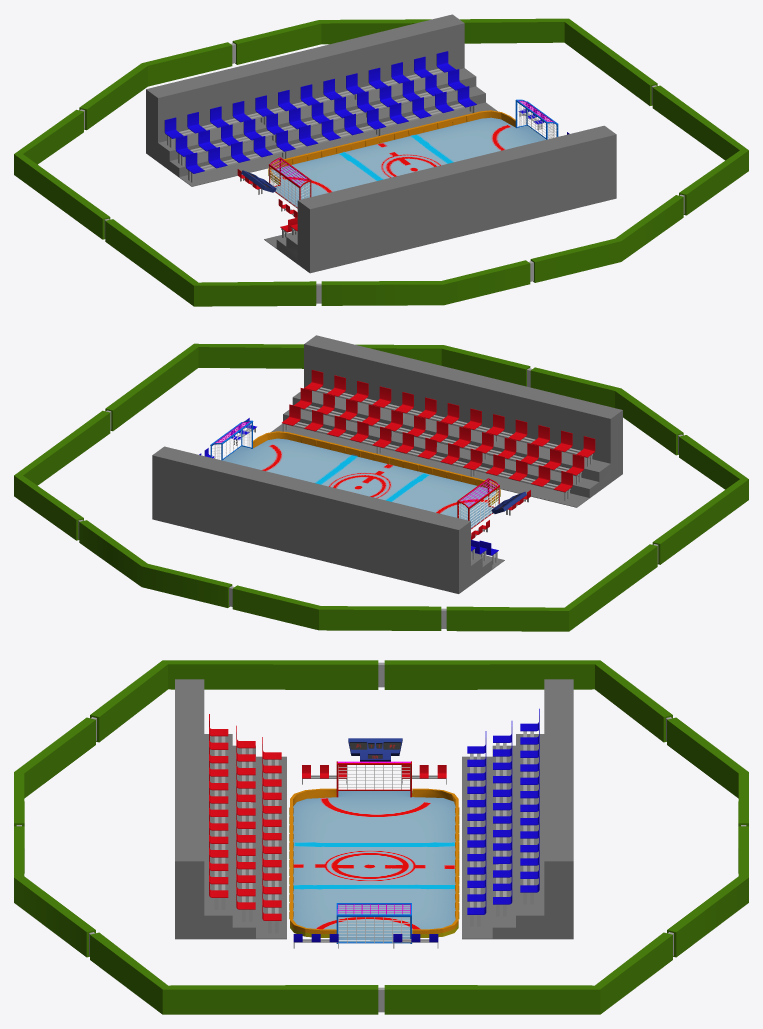
Rendered from 259b7ebc-059b-44a4-b567-25bea18f2a7e.fbx.
3 views of the same model, one above another, from view 1: azimuth 30°, elevation 25°; view 2: azimuth 150°, elevation 25°; view 3: azimuth 270°, elevation 25° (orthographic). The views are drawn at different scales.
Visible parts, largest first — view 1: reklam panoları, mavi oturaklar, kırmızı oturaklar, saha; view 2: reklam panoları, kırmızı oturaklar, mavi oturaklar, saha; view 3: reklam panoları, saha, mavi oturaklar, kırmızı oturaklar, skor tablosu, kırmızı oturaklar.001, kırmızı oturaklar.002.
Part boxes in pixels (bbox=[...]): reklam panoları: bbox=[14, 18, 748, 306]; mavi oturaklar: bbox=[146, 14, 497, 186]; kırmızı oturaklar: bbox=[264, 125, 616, 273]; saha: bbox=[268, 99, 558, 208]; reklam panoları: bbox=[14, 343, 748, 631]; kırmızı oturaklar: bbox=[271, 335, 622, 507]; mavi oturaklar: bbox=[152, 446, 504, 593]; saha: bbox=[210, 420, 500, 529]; reklam panoları: bbox=[14, 660, 748, 1014]; saha: bbox=[289, 761, 459, 943]; mavi oturaklar: bbox=[462, 679, 573, 939]; kırmızı oturaklar: bbox=[175, 679, 286, 939]; skor tablosu: bbox=[348, 738, 402, 761]; kırmızı oturaklar.001: bbox=[302, 765, 446, 784]; kırmızı oturaklar.002: bbox=[293, 934, 438, 948].
Size of what is drawn, in the model's own units: 4313 by 476 by 4068.
8 materials, 2 textured.
